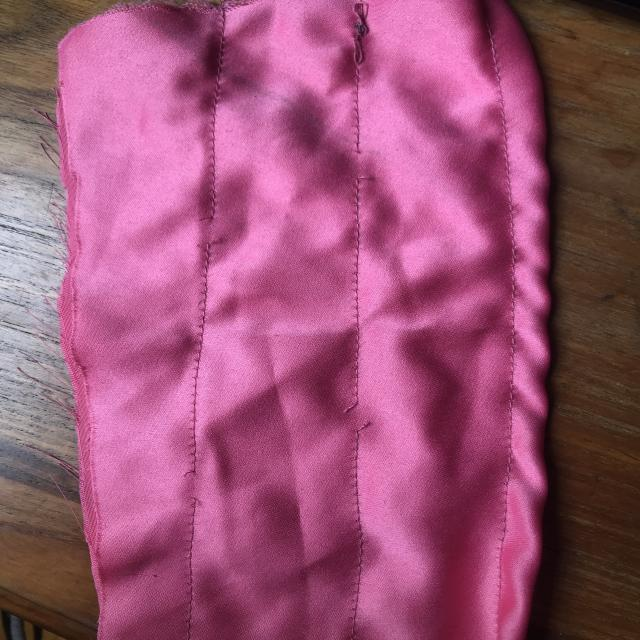broken: (160, 200, 244, 260), (337, 387, 398, 447), (150, 463, 219, 515), (337, 133, 385, 193)
good: (199, 117, 231, 178)
